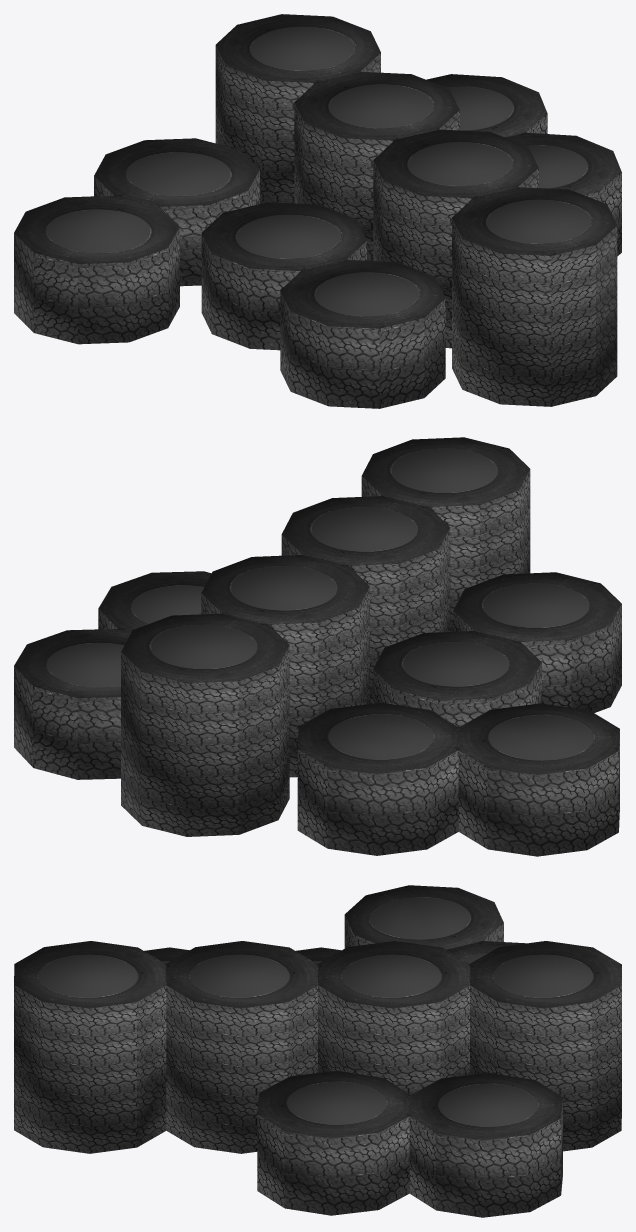
Rendered from wheels1.fbx.
3 views of the same model, one above another, from view 1: azimuth 30°, elevation 25°; view 2: azimuth 150°, elevation 25°; view 3: azimuth 270°, elevation 25° (orthographic). The views are drawn at different scales.
Visible parts, largest first — view 1: wheels1; view 2: wheels1; view 3: wheels1.
Boxes of the visible parts, <box> form: wheels1: <box>14,14,621,408</box>; wheels1: <box>14,437,621,856</box>; wheels1: <box>14,885,621,1217</box>.
Bounding box in the file's own units: 114 × 30.36 × 115.
